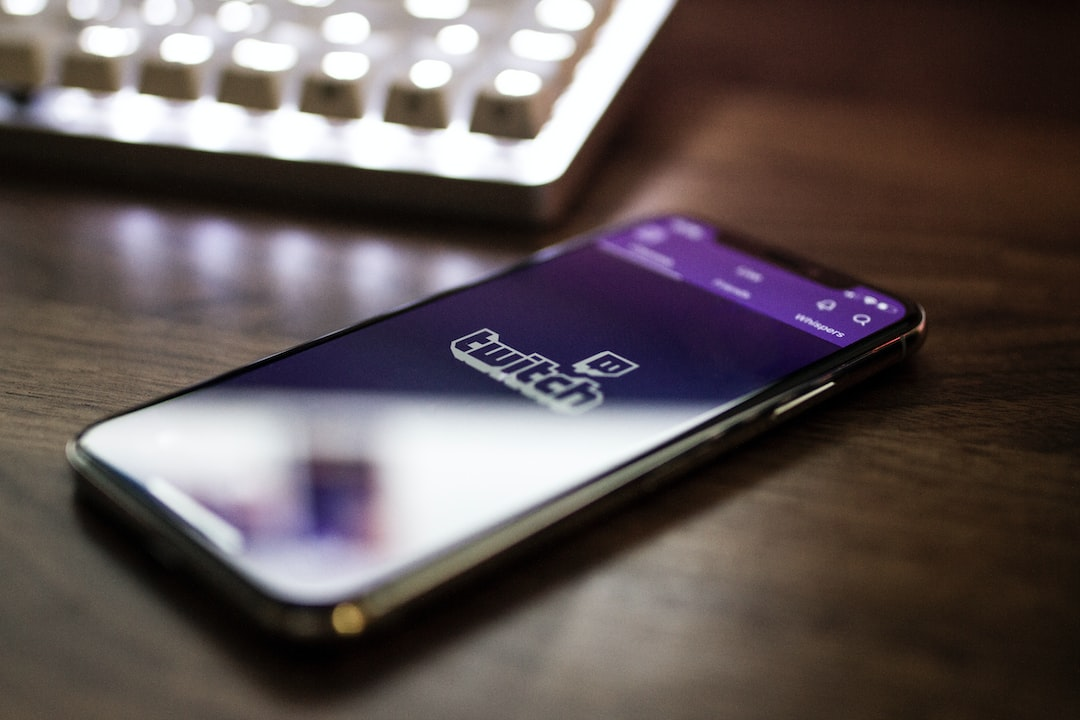phone: (55, 209, 932, 654)
